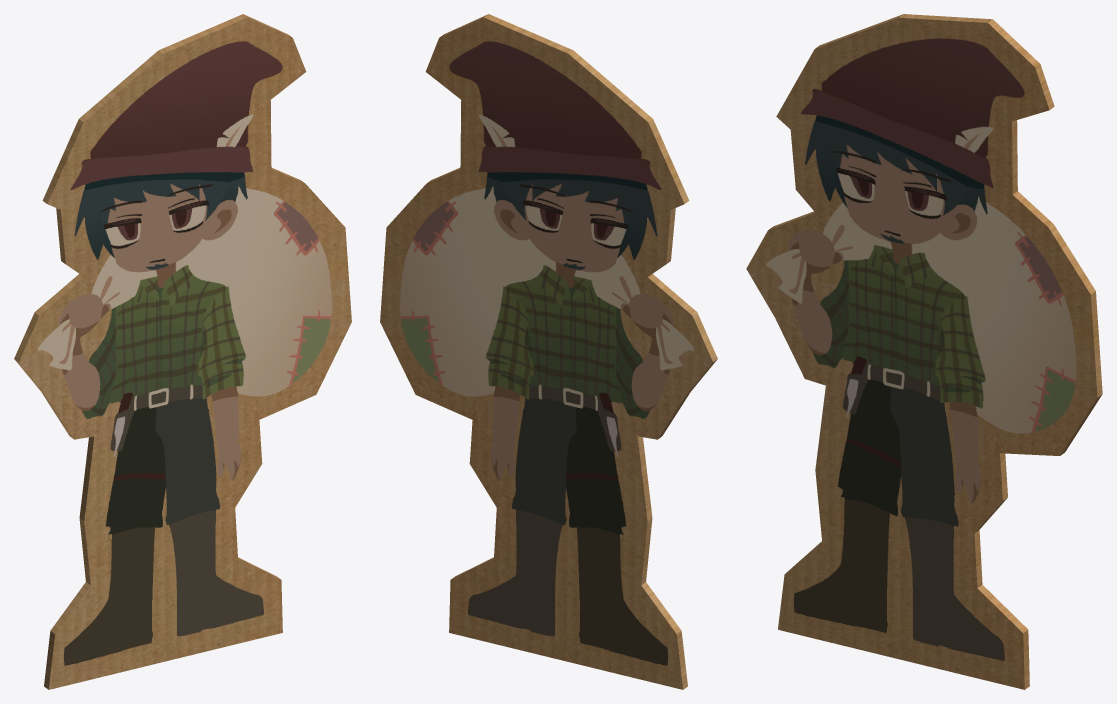
The model's file is NPC_Base_3_Hunter.glb.
3 views of the same model, side by side, from view 1: azimuth 30°, elevation 25°; view 2: azimuth 150°, elevation 25°; view 3: azimuth 330°, elevation 25° (orthographic). The views are drawn at different scales.
Visible parts, largest first — view 1: NPC_Base_3_Hunter; view 2: NPC_Base_3_Hunter; view 3: NPC_Base_3_Hunter.
Part boxes in pixels (x1,y1,x2,y2): NPC_Base_3_Hunter: (14,14,351,689); NPC_Base_3_Hunter: (380,14,717,689); NPC_Base_3_Hunter: (746,14,1102,689).
Size of the model in its own units: 1.19 by 2.13 by 0.03.
1 material, 1 textured.
